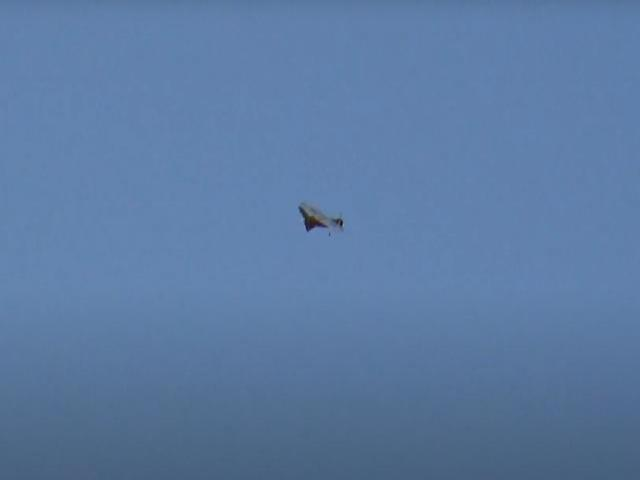iha: (298, 203, 344, 234)
